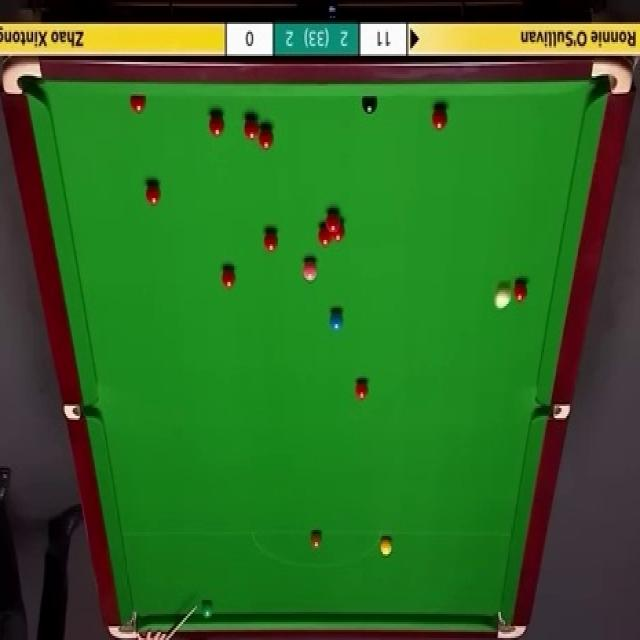black-ball: (360, 95, 378, 117)
blue-ball: (329, 307, 345, 332)
brown-ball: (310, 529, 324, 552)
green-ball: (200, 600, 215, 619)
pink-ball: (302, 258, 317, 286)
red-ball: (242, 112, 260, 143), (220, 262, 237, 291), (209, 111, 226, 137), (146, 182, 163, 207), (258, 125, 274, 151), (264, 228, 279, 253), (432, 106, 446, 132), (513, 278, 528, 302), (354, 378, 369, 401), (318, 222, 332, 246), (130, 94, 146, 114), (326, 210, 339, 230), (332, 222, 345, 242)
white-ball: (494, 283, 512, 309)
yellow-ball: (380, 537, 394, 557)
